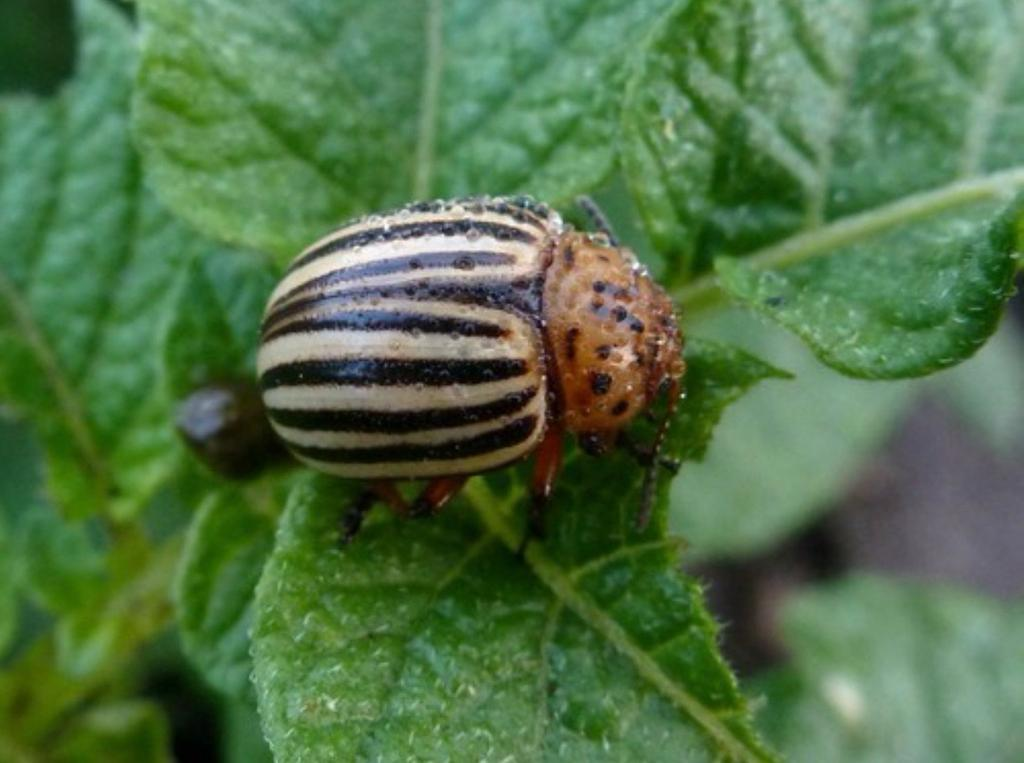potato_beetle: (142, 134, 741, 573)
